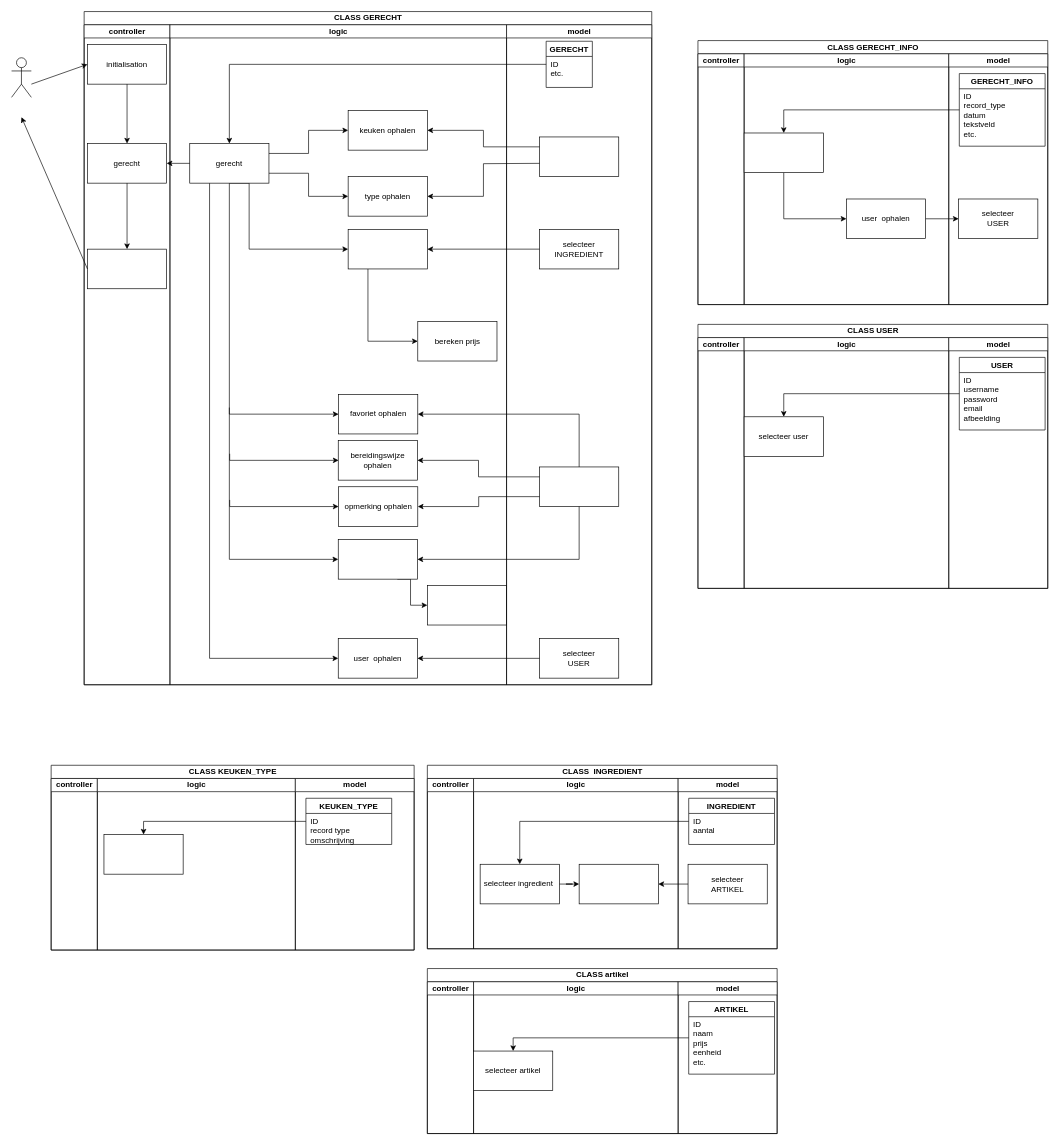
This 1059x1145 diagram has some shape labels left out. Here are the shapes that lost their labels. From the top down, the centre of each, then its label:
pixel 21 77: Actor
pixel 579 156: selecteer KEUKEN_TYPE
pixel 783 152: selecteer gerecht info
pixel 127 268: html
pixel 387 249: ingredienten ophalen
pixel 579 486: selecteer GERECHT_INFO
pixel 377 559: waardering ophalen
pixel 467 605: bereken waardering
pixel 143 854: selecteer keuken type
pixel 618 884: artikel ophalen
